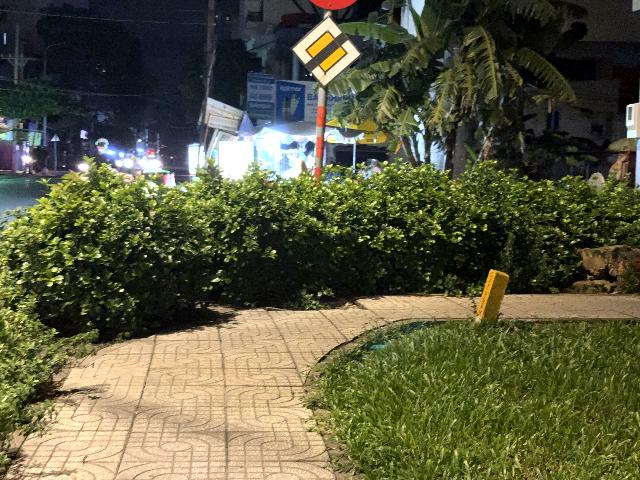het-duong-uu-tien: (290, 14, 362, 88)
